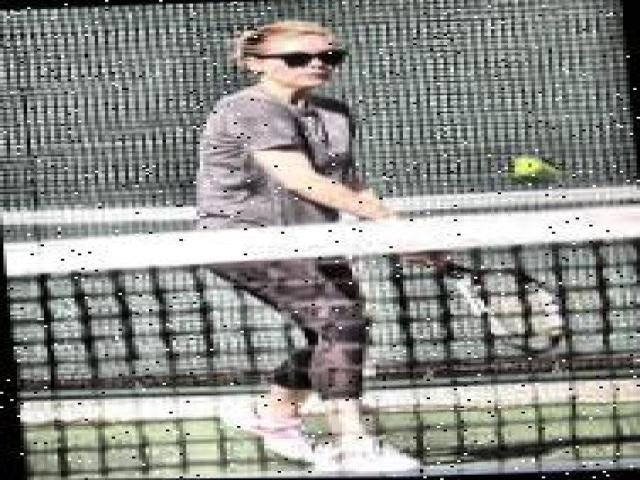tennis-ball: (513, 156, 557, 185)
